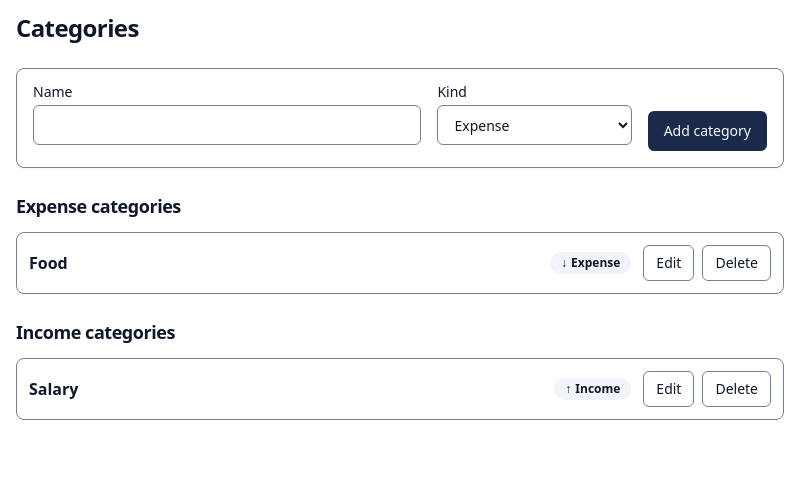
SPEC-010 Story-002 categories restyle › SPEC-010 T-025 the kind is a Badge with an icon and text; rename and kind change happen inline in the row
The image size is (801, 493).
Expected: the text "↓" is shown, x1=561 y1=255 x2=567 y2=271
Click the button with aria-label "Edit Food" at (669, 263), box x1=643 y1=245 x2=694 y2=281
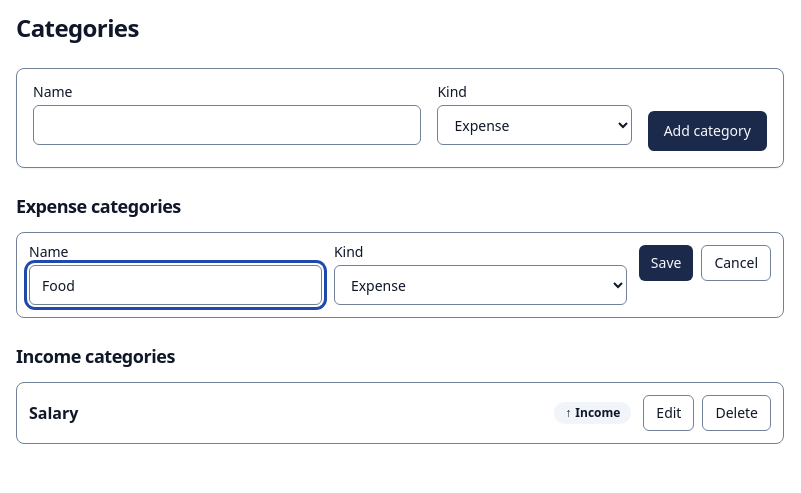
Clear the field labelled "Name" below "Expense" at (175, 285), box x1=29 y1=265 x2=322 y2=305
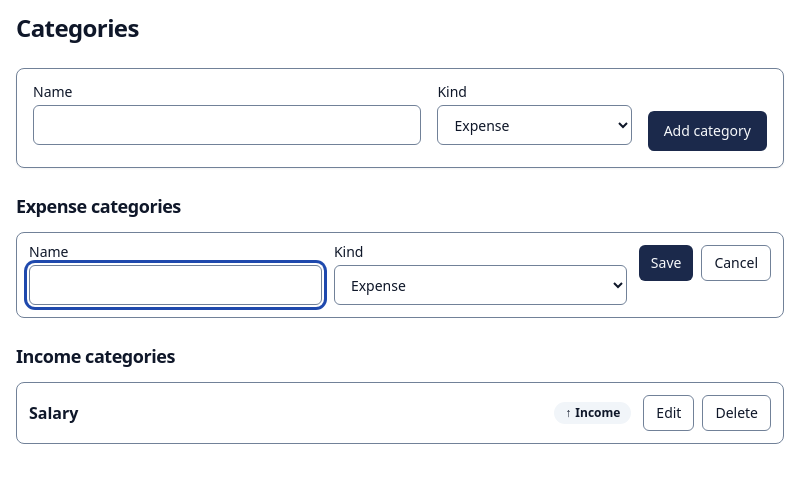
Click the button with aria-label "Save Food" at (666, 263), box x1=639 y1=245 x2=693 y2=281
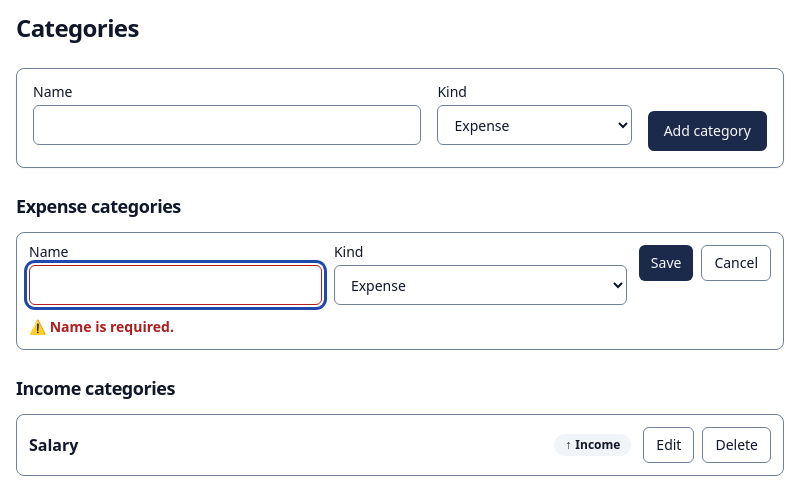
Now the message reads "⚠ Name is required.", box x1=29 y1=317 x2=174 y2=336
